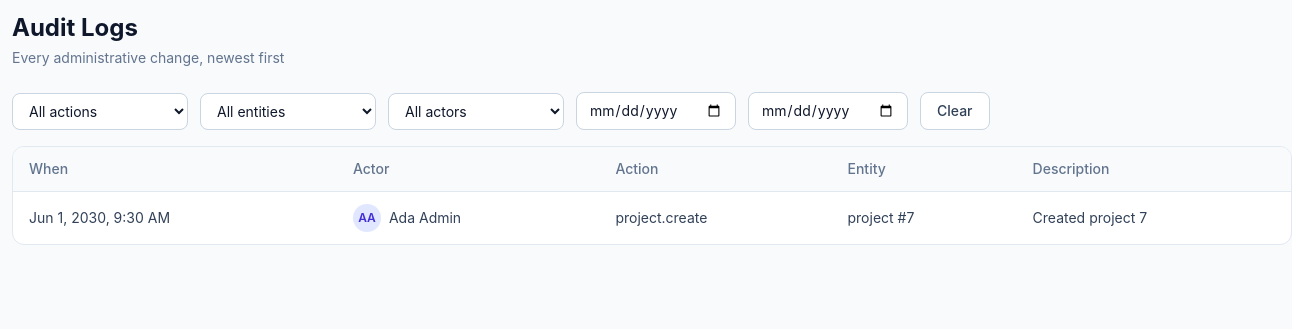
Test: AuditPage › keeps the filters usable after a failed request so the user can recover
The width and height of the screenshot is (1292, 329).
Expected: the text "Created project 7" is shown, [1017,192,1291,244]
In the date field named "From date": (656, 111) [576,92,736,130], type "2030-01-01"
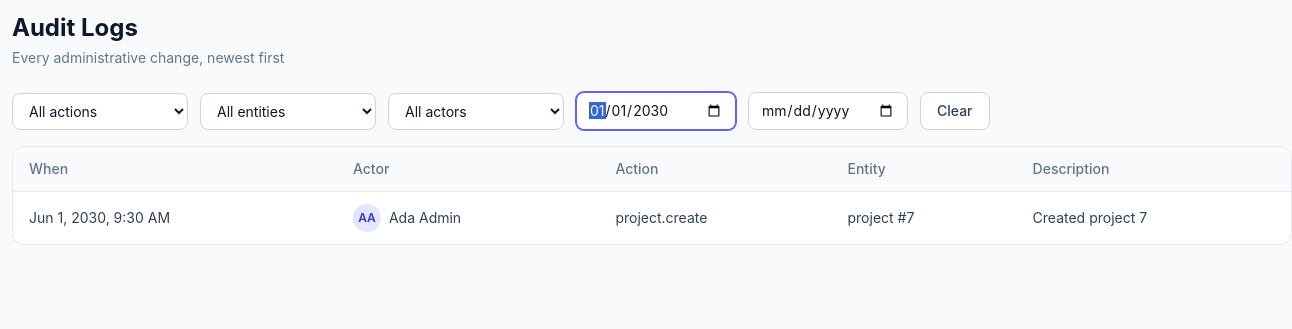
In the date field named "To date": (828, 111) [748,92,908,130], type "2029-01-01"
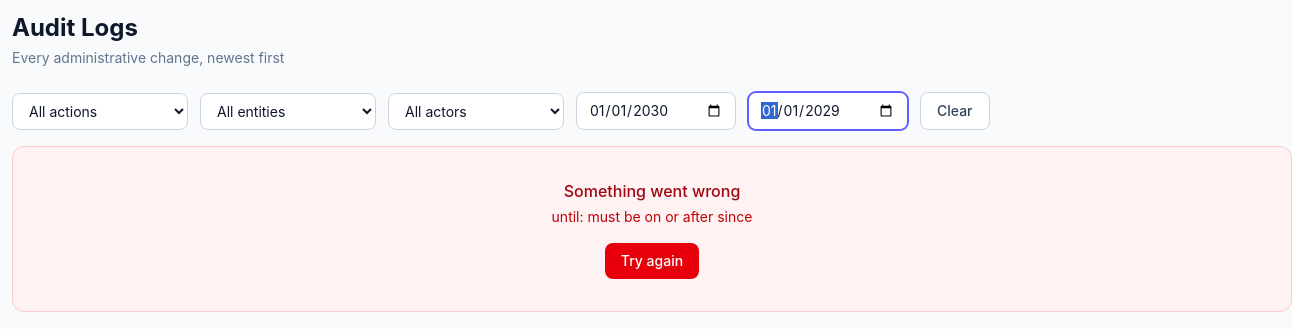
Expected: the text "until: must be on or after since" is shown, [552,208,752,225]
Clear the date field named "To date": (828, 111) [748,92,908,130]
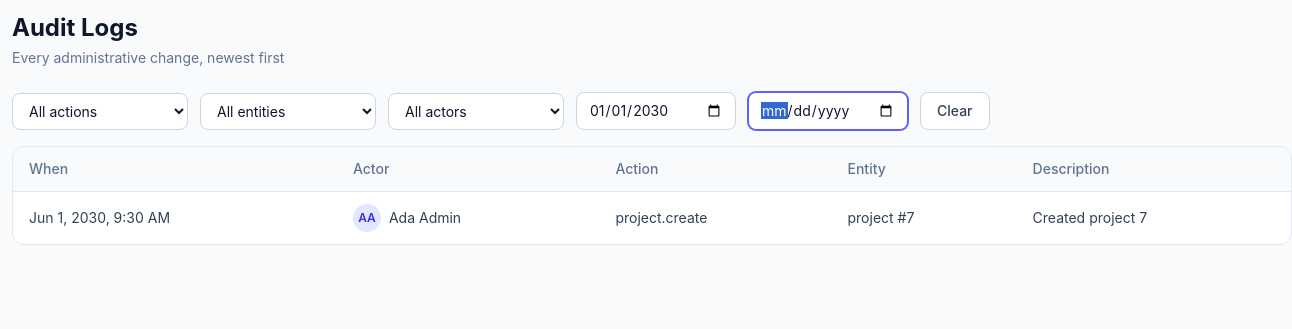
Expected: the text "Created project 7" is shown, [1017,192,1291,244]
Expected: the message "Something went wrong until: must be on or after since Try again" is gone
